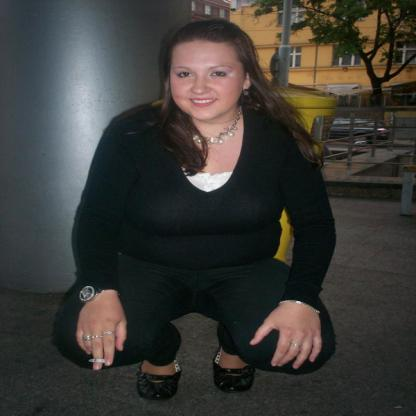smoking: (89, 359, 111, 362)
